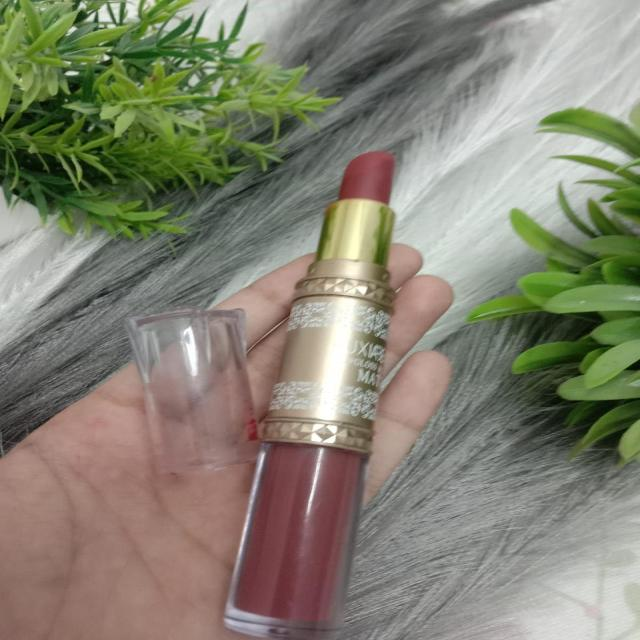lip stick: (178, 123, 466, 640)
